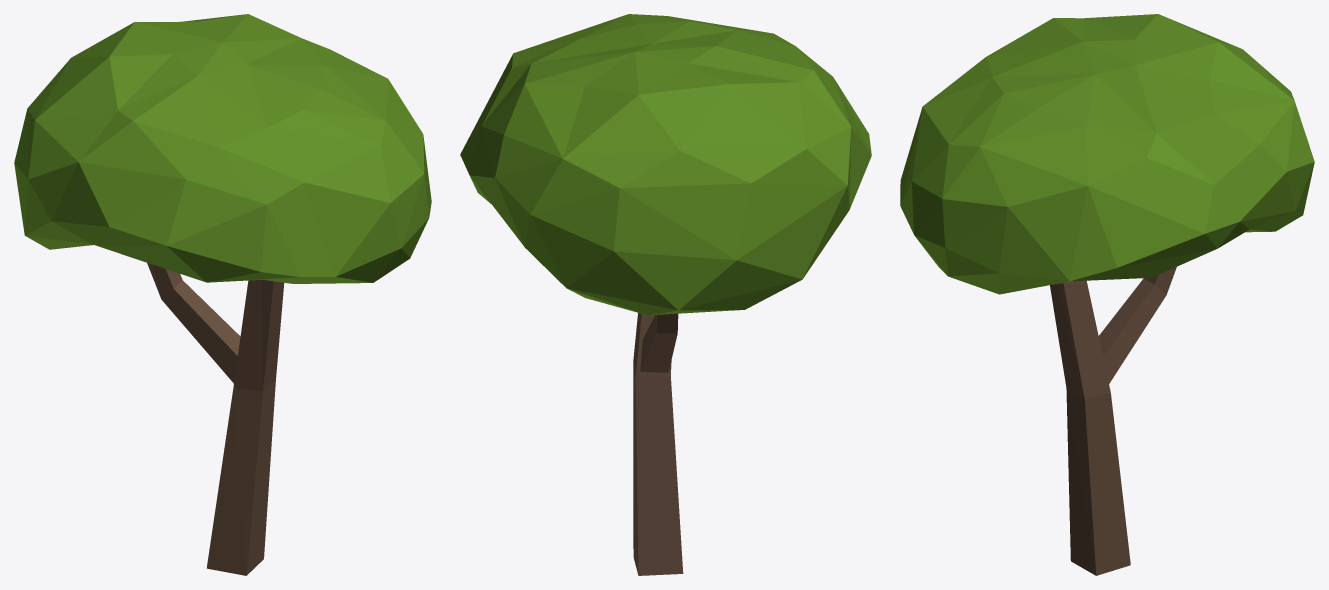
File: tree_2.fbx
The picture shows the model from 3 angles, left to right: view 1: azimuth 30°, elevation 25°; view 2: azimuth 150°, elevation 25°; view 3: azimuth 270°, elevation 25°; orthographic projection. The views are drawn at different scales.
Parts seen in each view (by area): view 1: tree_2; view 2: tree_2; view 3: tree_2.
Boxes of the visible parts, x1,y1,x2,y2 form: tree_2: (14,14,431,575); tree_2: (460,14,871,575); tree_2: (900,14,1314,575).
Bounding box in the file's own units: 473 × 634 × 474.
